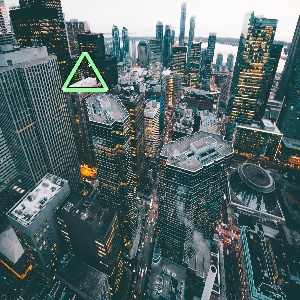triangle: (60, 50, 111, 95)
